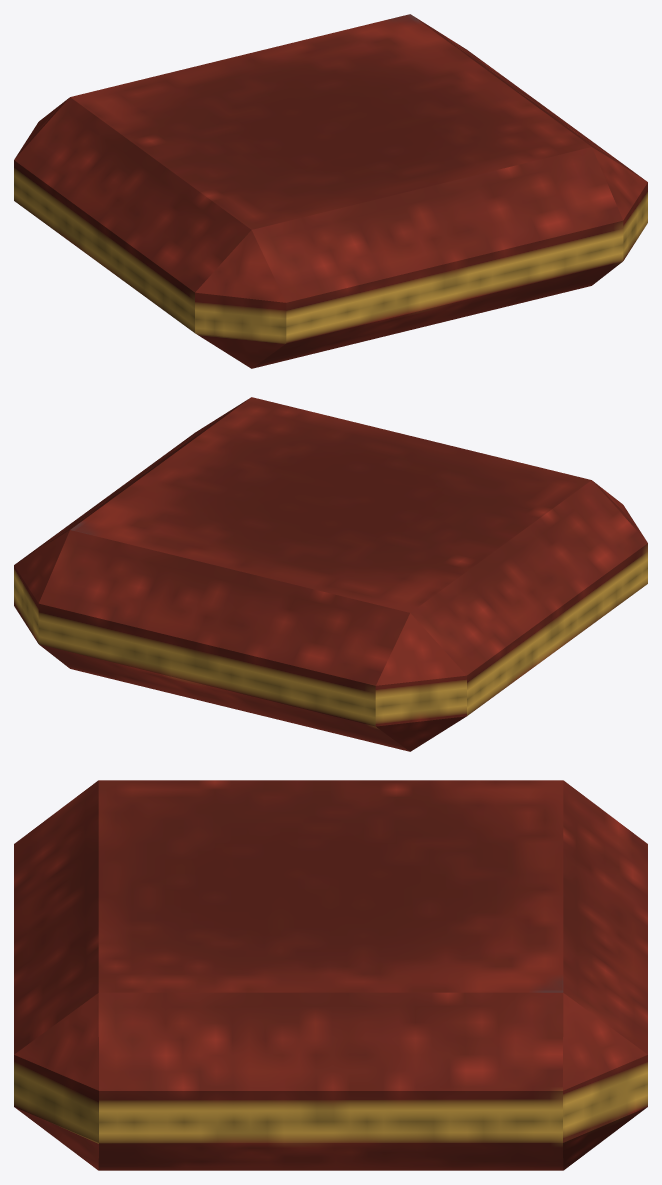
Rendered from C_pillowHolder.fbx.
3 views of the same model, one above another, from view 1: azimuth 30°, elevation 25°; view 2: azimuth 150°, elevation 25°; view 3: azimuth 270°, elevation 25° (orthographic). The views are drawn at different scales.
Parts seen in each view (by area): view 1: pCube8; view 2: pCube8; view 3: pCube8.
Boxes of the visible parts, x1,y1,x2,y2 form: pCube8: (14,14,647,368); pCube8: (14,397,647,751); pCube8: (14,780,647,1170).
Size of the model in its own units: 264 by 77.47 by 250.
